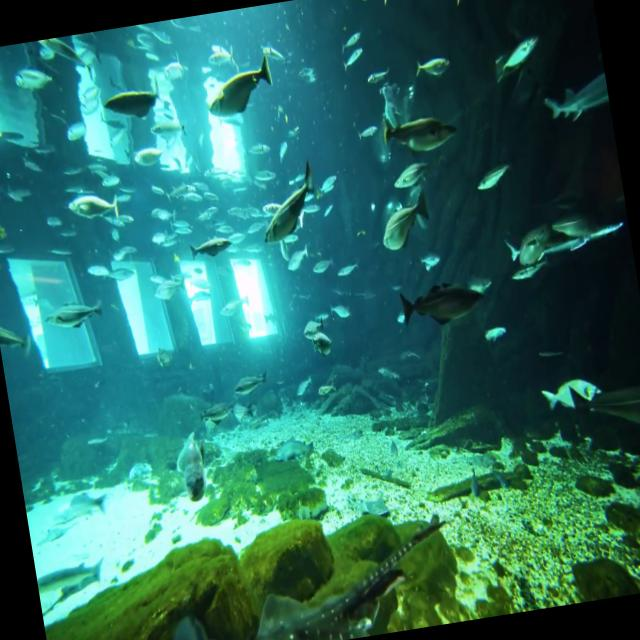fish: (254, 164, 322, 245), (203, 53, 279, 121), (399, 278, 484, 332), (378, 190, 436, 252), (382, 112, 458, 159), (41, 294, 107, 336), (63, 186, 123, 232), (101, 81, 166, 123), (414, 52, 452, 80)
